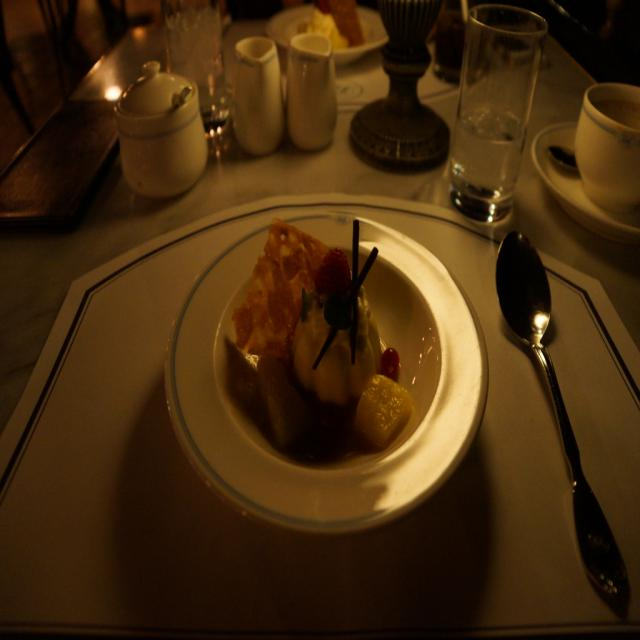non-organic waste: (157, 208, 499, 536)
